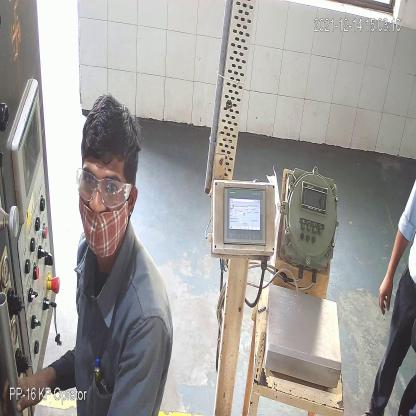goggles: (78, 165, 132, 208)
